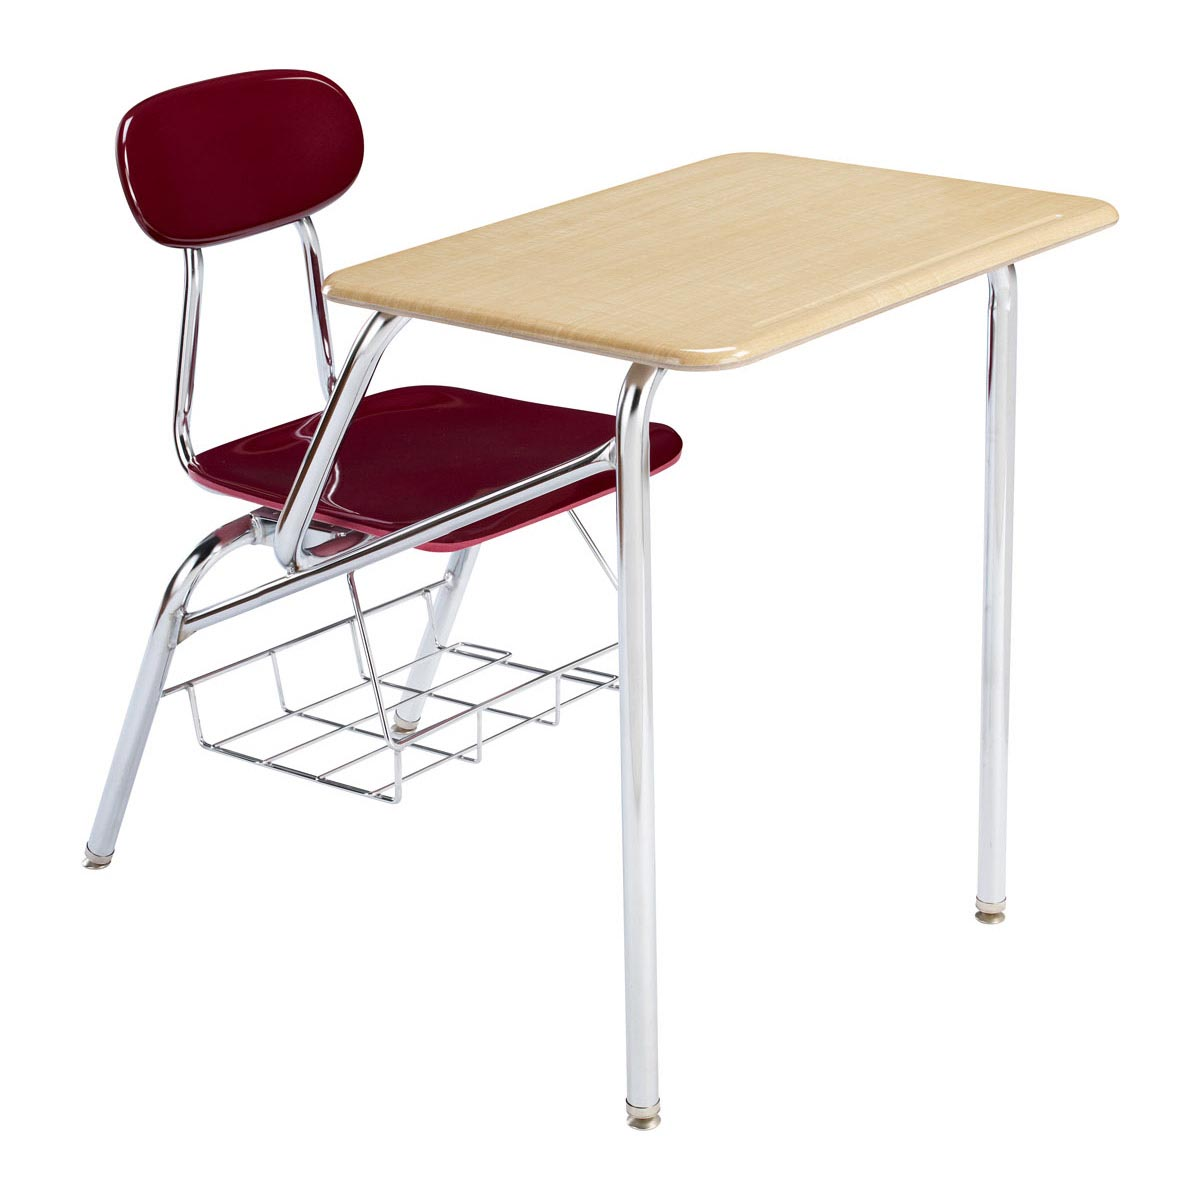desk: (66, 56, 1122, 1144)
